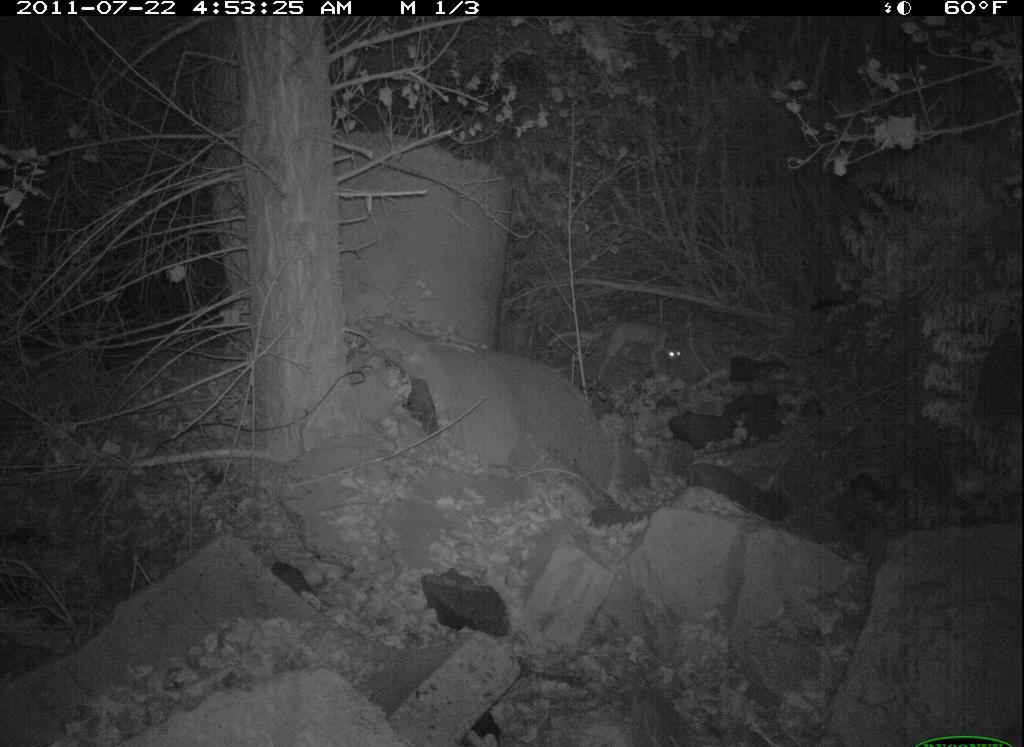bobcat: (582, 314, 692, 405)
